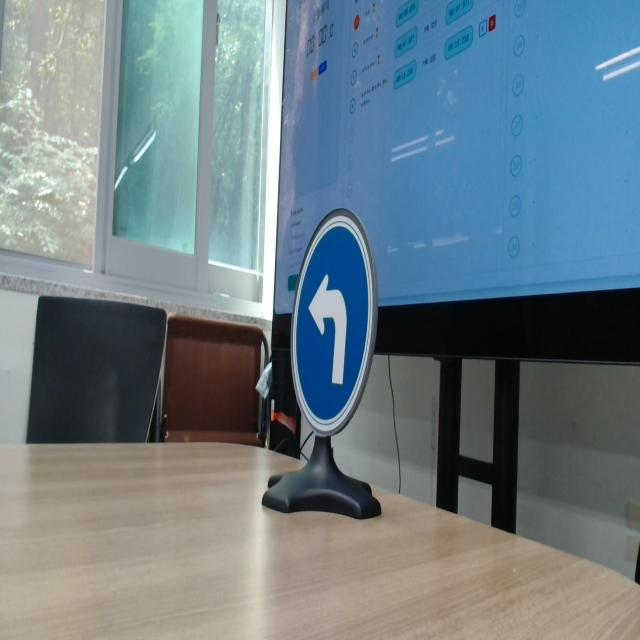left_direction: (283, 194, 390, 442)
